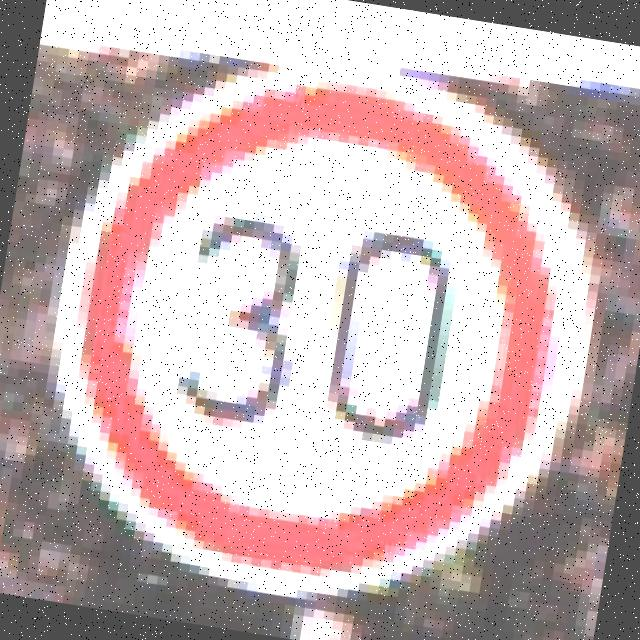Ograniczenie predkosci do 30: (31, 34, 620, 624)
